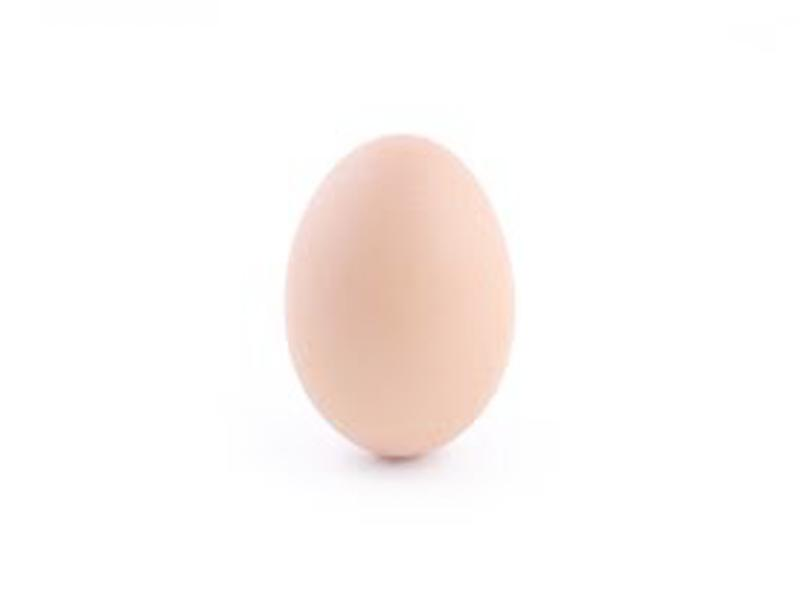Eggs: (281, 131, 511, 456)
